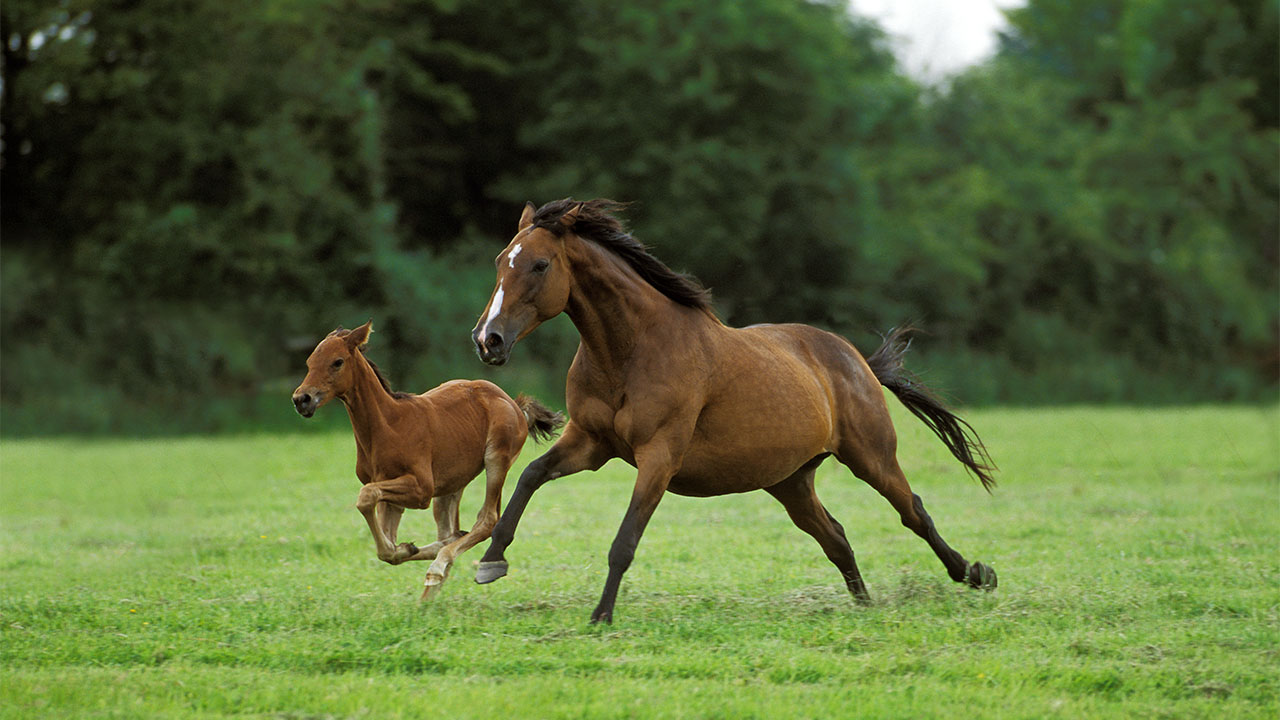Horse: (470, 188, 1005, 659), (281, 316, 577, 629)
